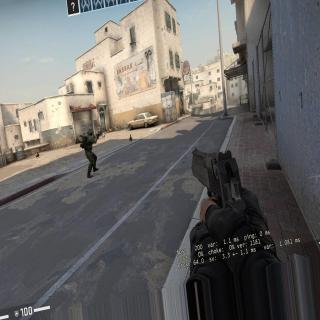CT-Body: (80, 125, 100, 168)
CT-Head: (87, 128, 94, 135)
